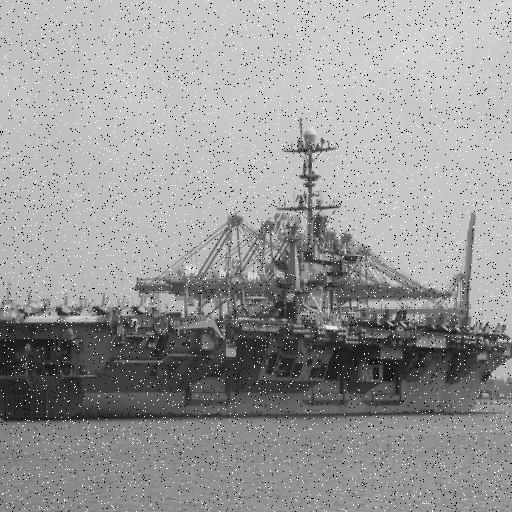Portanaves: (1, 118, 512, 420)
